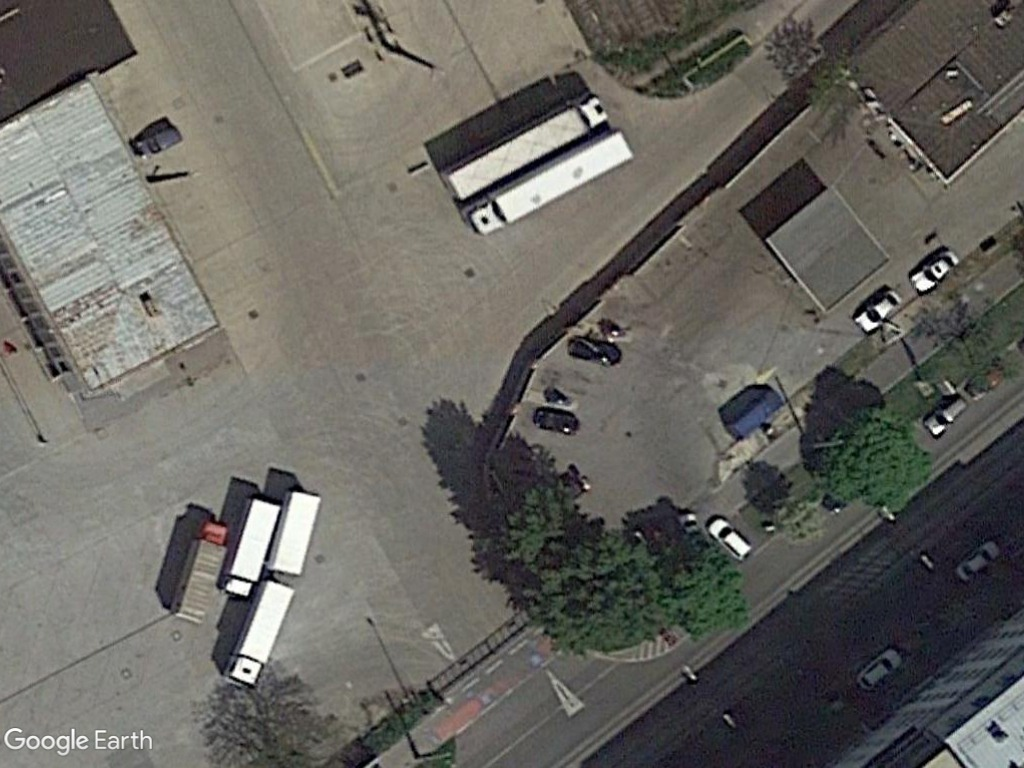longvehicle: (459, 126, 636, 241), (439, 88, 609, 205)
truck: (221, 572, 297, 691), (219, 491, 288, 601), (169, 517, 234, 633)
van: (849, 641, 912, 696), (704, 511, 758, 569), (905, 246, 961, 299), (918, 391, 976, 441), (851, 284, 906, 336), (950, 536, 1003, 589)
